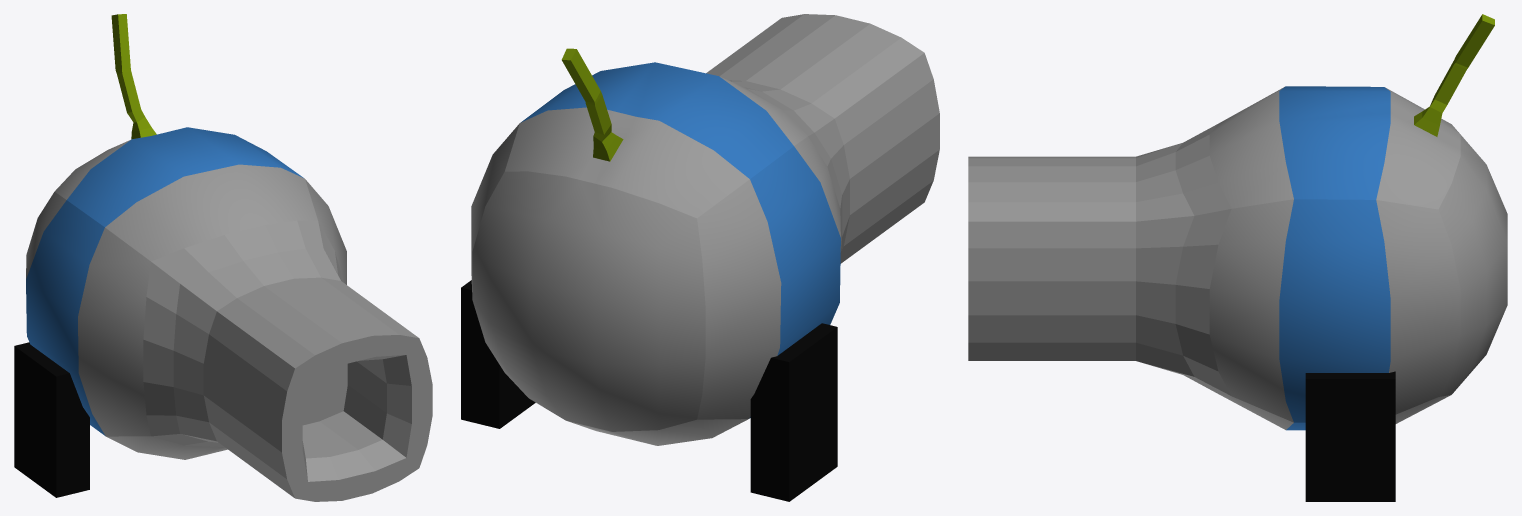
Rendered from Cañon.FBX.
3 renders of one model, left to right at view 1: azimuth 30°, elevation 25°; view 2: azimuth 150°, elevation 25°; view 3: azimuth 270°, elevation 25°, orthographic. The views are drawn at different scales.
Visible parts, largest first — view 1: Box001, Box002; view 2: Box001, Box002, Box003; view 3: Box001, Box003.
Part boxes in pixels (box(x1,y1,x2,y2)): Box001: box(26, 14, 432, 501); Box002: box(14, 342, 89, 497); Box001: box(471, 14, 939, 445); Box002: box(750, 323, 837, 501); Box003: box(461, 280, 535, 428); Box001: box(968, 14, 1507, 430); Box003: box(1305, 371, 1395, 501).
Bounding box in the file's own units: 0.5411 × 0.8258 × 0.7035.
